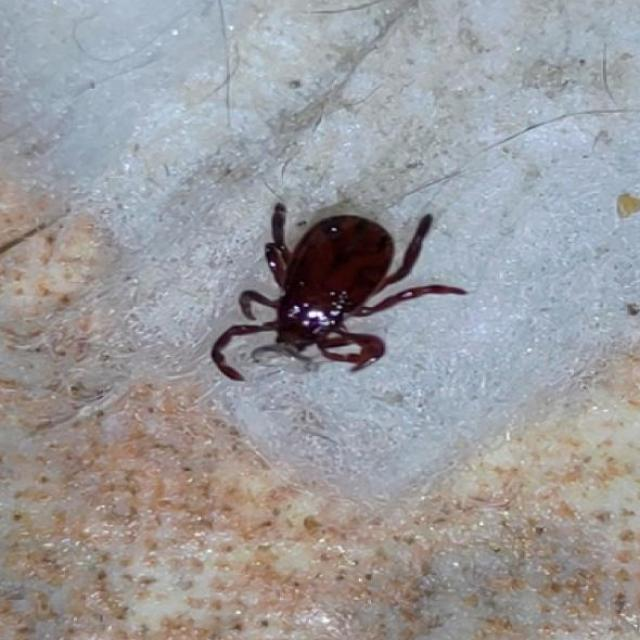Rhipicephalus Sanguineus-M: (211, 206, 467, 383)
